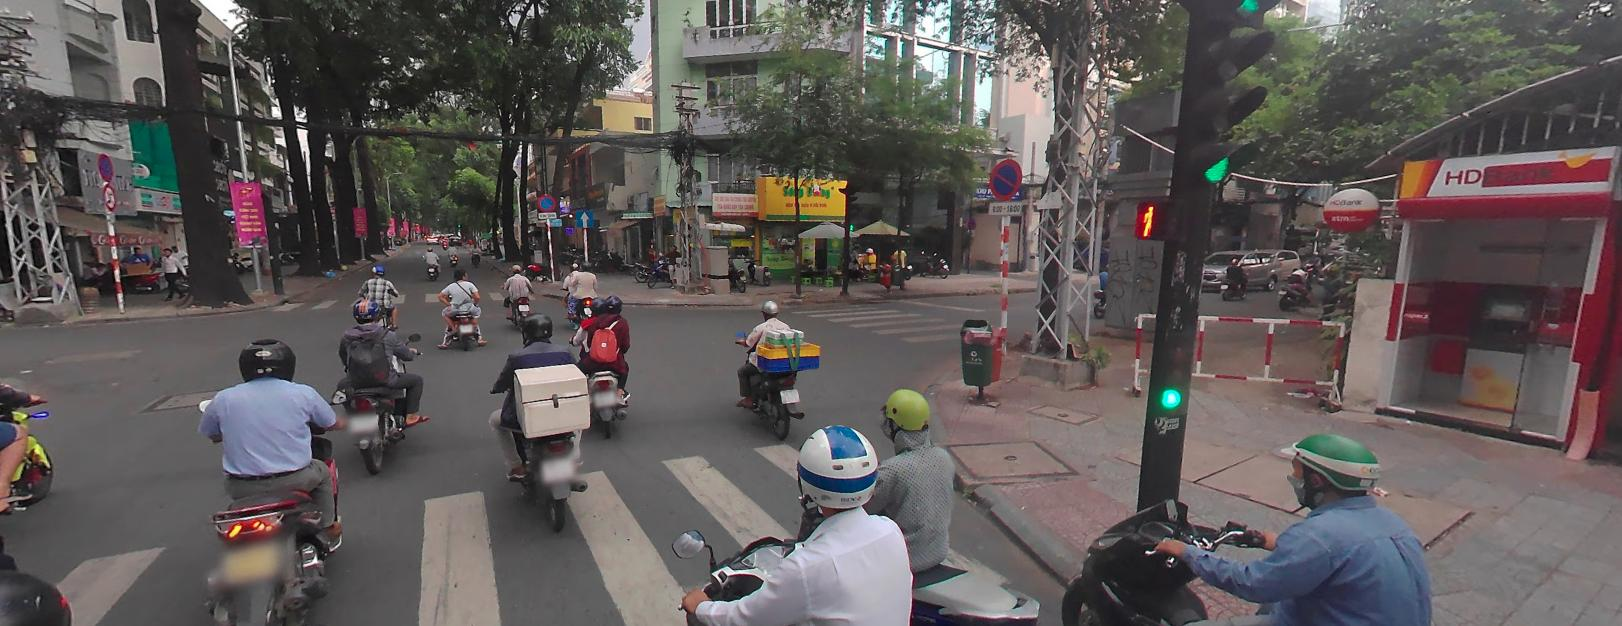Cam con lai: (103, 183, 115, 209)
Cam dung va do: (989, 157, 1021, 200), (97, 151, 113, 179), (537, 192, 554, 209)
